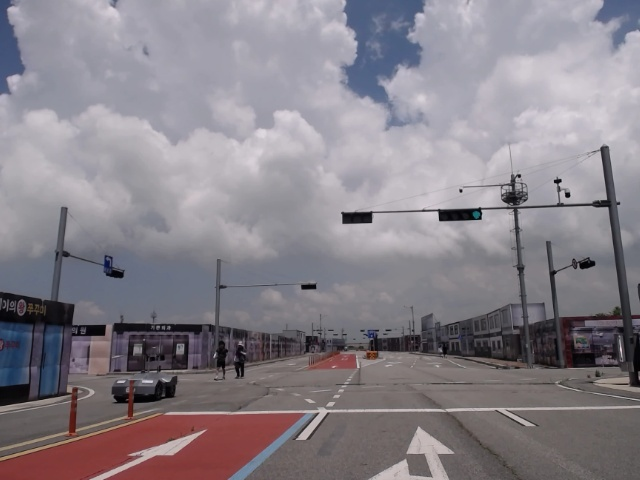straight_green_4: (438, 210, 483, 221)
